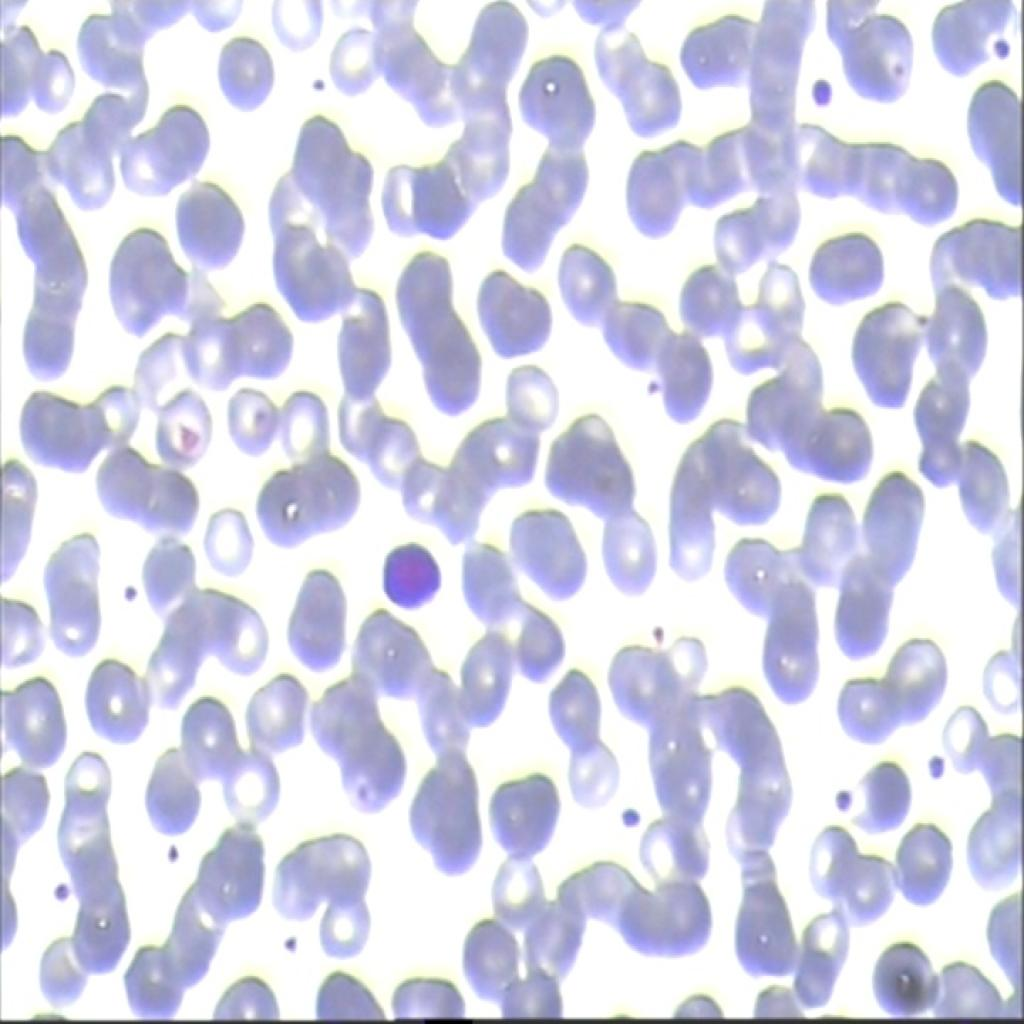Limfosit: (358, 521, 451, 617)
Platelet: (804, 73, 854, 115), (634, 359, 670, 414), (111, 567, 156, 608), (613, 790, 650, 836), (980, 18, 1014, 68), (280, 919, 309, 971), (309, 62, 341, 108), (158, 834, 182, 876), (830, 778, 854, 818), (928, 745, 952, 780), (648, 617, 670, 654), (46, 876, 71, 905)
